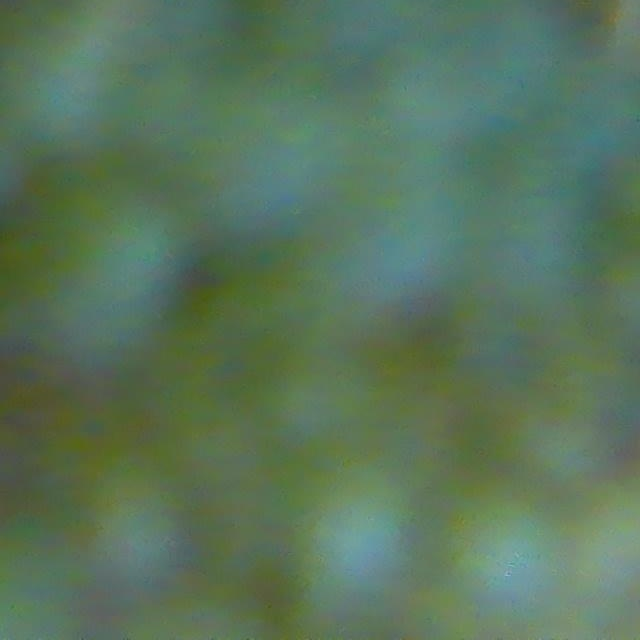SeaGrape: (0, 171, 169, 347), (266, 459, 414, 604), (432, 481, 559, 611), (74, 464, 195, 590)
